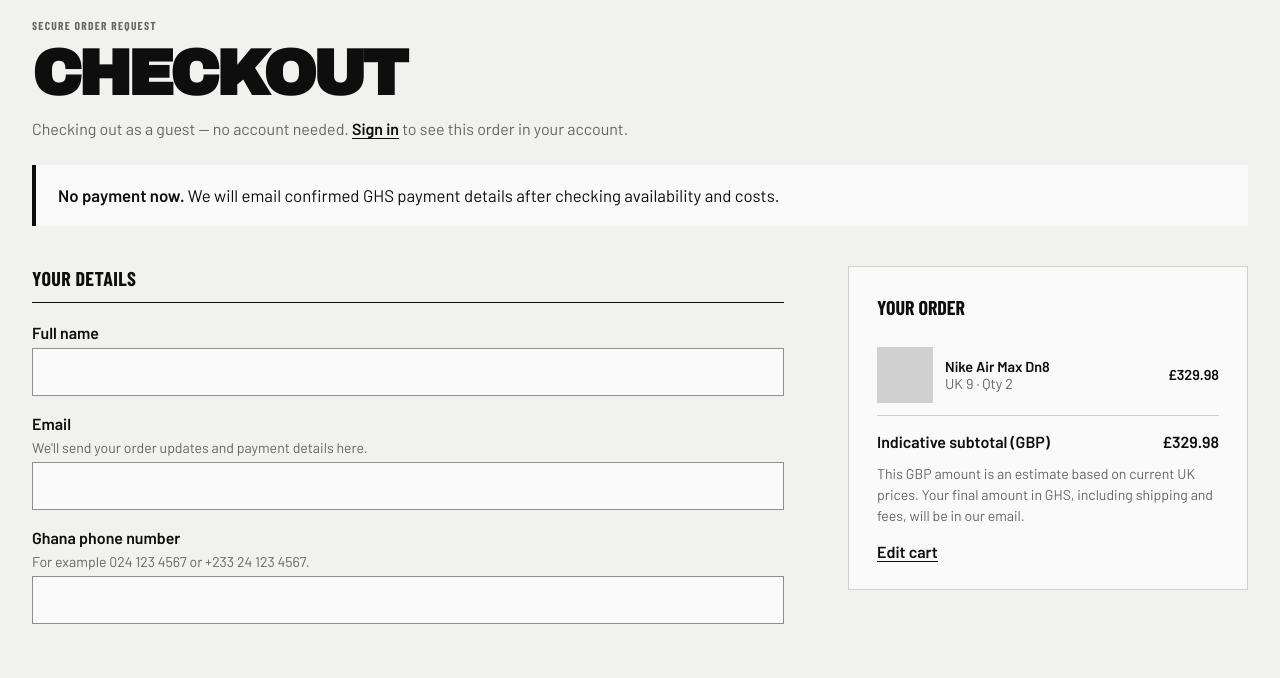
unavailable items are flagged and the cart is kept
Type "Ama Mensah" into the field labelled "Full name" at coordinates (408, 372), box x1=32 y1=348 x2=784 y2=396
Type "ama@example.test" into the field labelled "Email" at coordinates (408, 486), box x1=32 y1=462 x2=784 y2=510
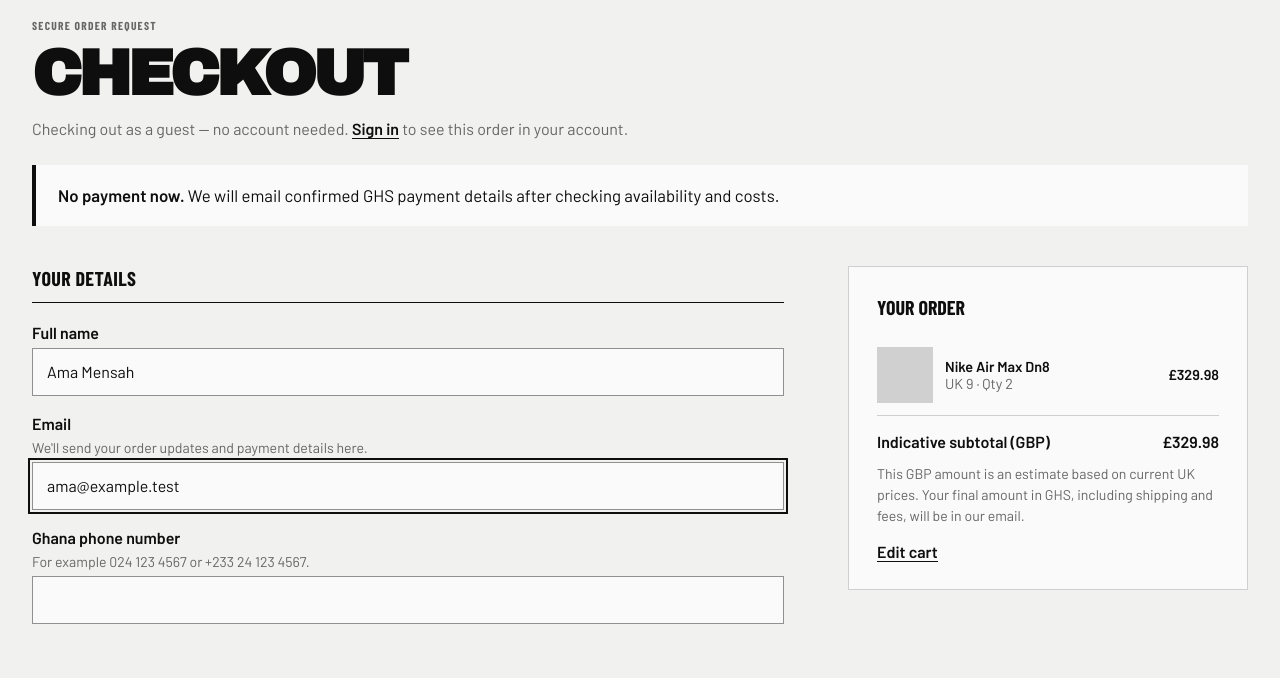
Type "024 123 4567" into the field labelled "Ghana phone number" at coordinates (408, 600), box x1=32 y1=576 x2=784 y2=624
(page scrolled)
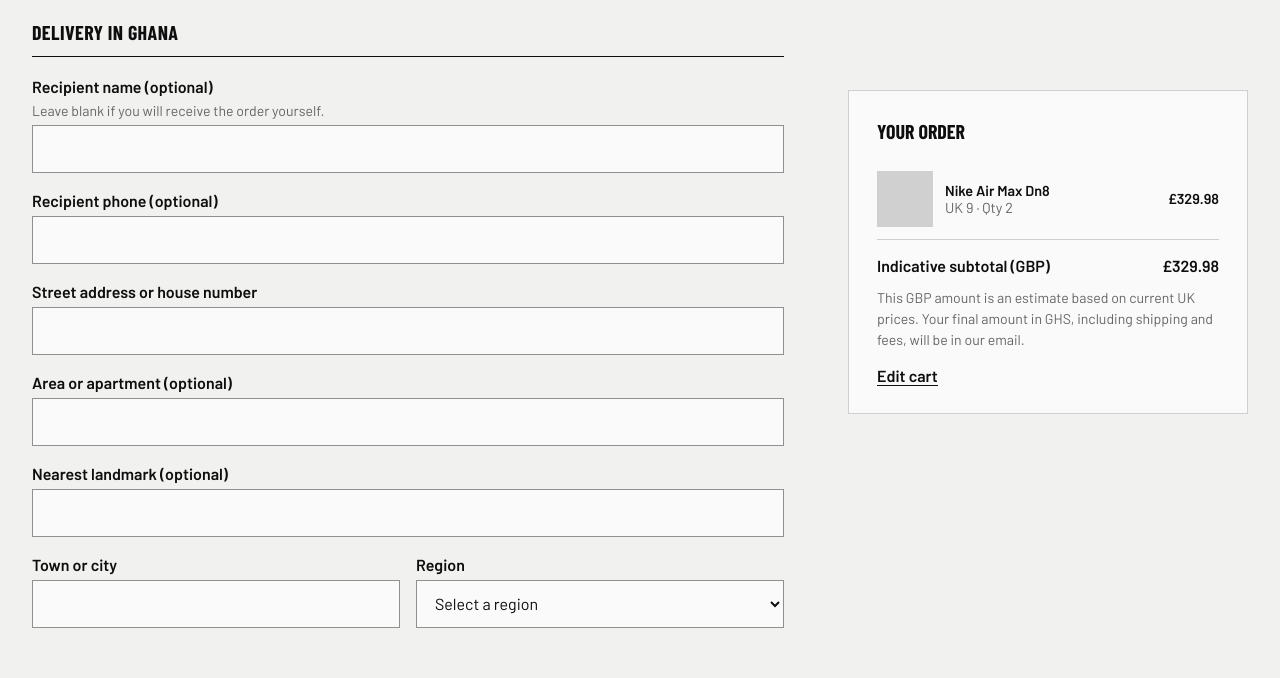
Type "12 Ring Road East" into the field labelled "Street address or house number" at coordinates (408, 331), box x1=32 y1=307 x2=784 y2=355
Type "Accra" into the field labelled "Town or city" at coordinates (216, 604), box x1=32 y1=580 x2=400 y2=628
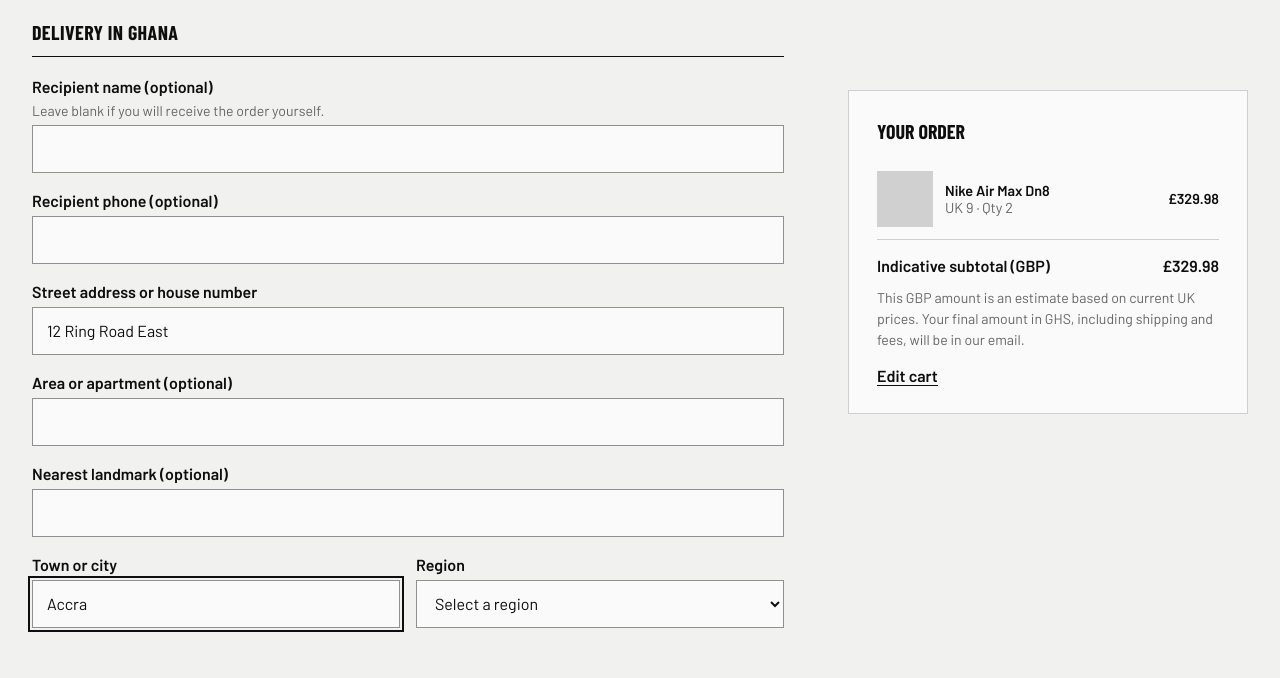
Select "Greater Accra" in the dropdown labelled "Region" at coordinates (600, 604), box x1=416 y1=580 x2=784 y2=628
(page scrolled)
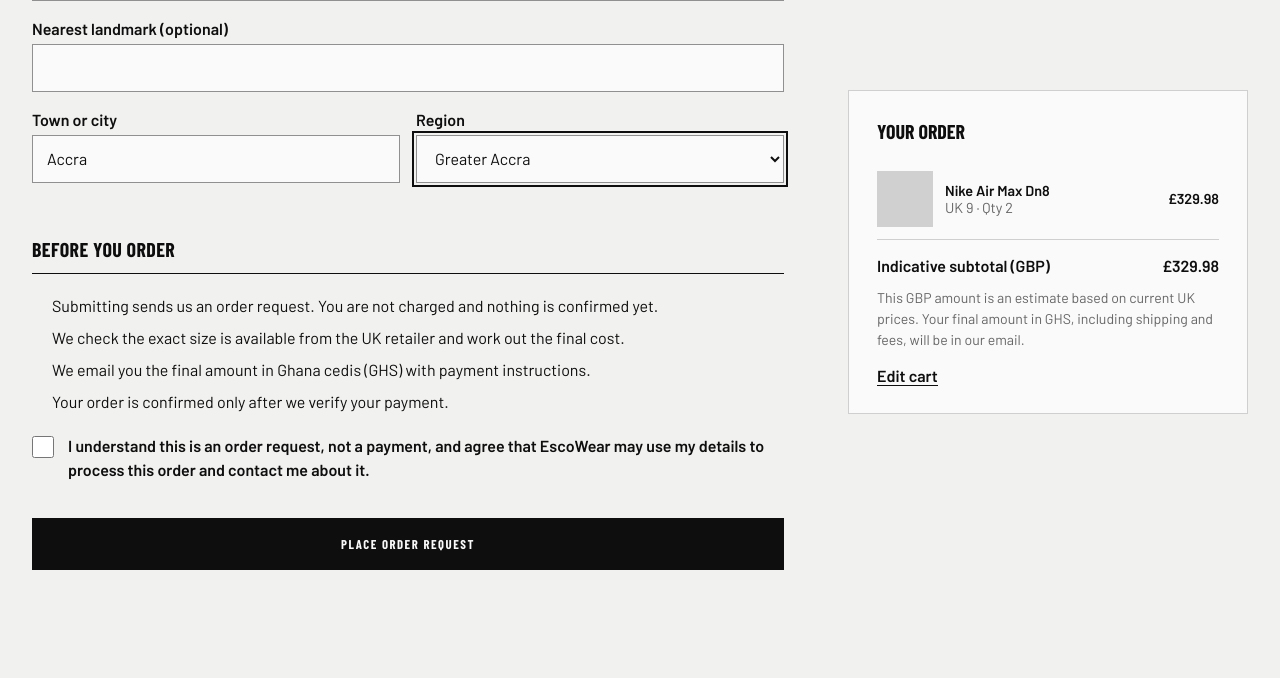
Click the checkbox labelled "I understand this is an order request" at coordinates (43, 447), box x1=32 y1=436 x2=54 y2=458
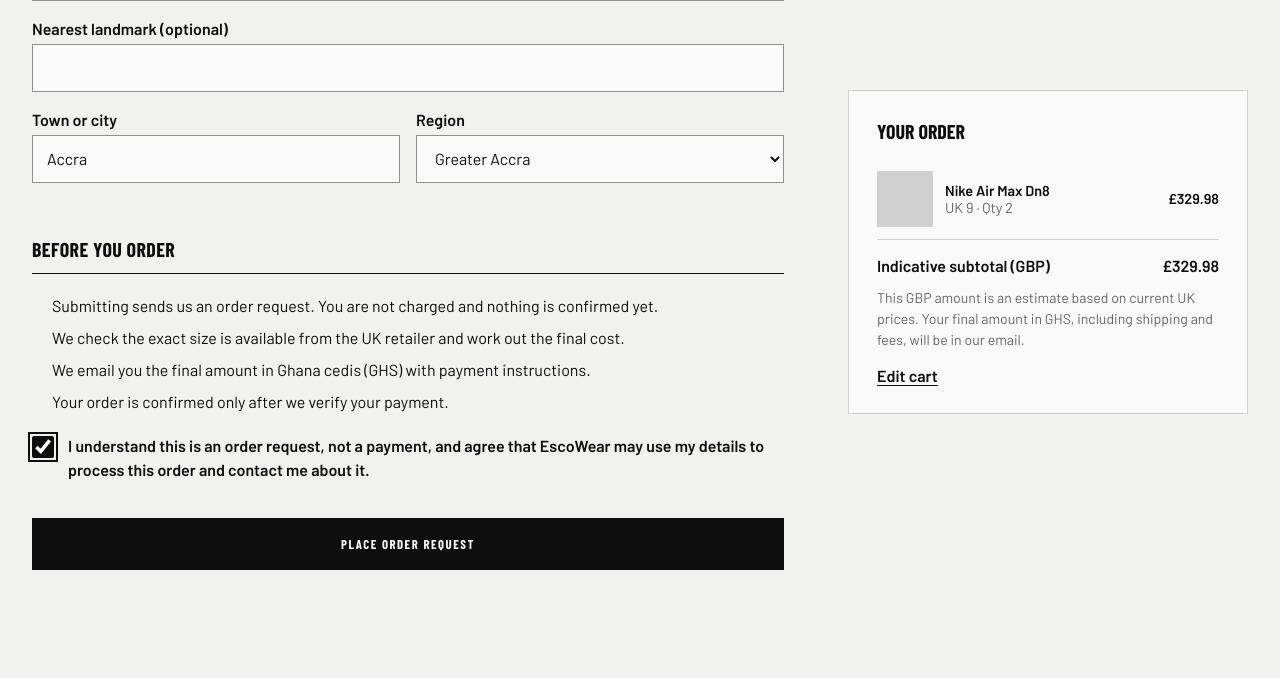
Click the button "Place order request" at coordinates (408, 544), box x1=32 y1=518 x2=784 y2=570
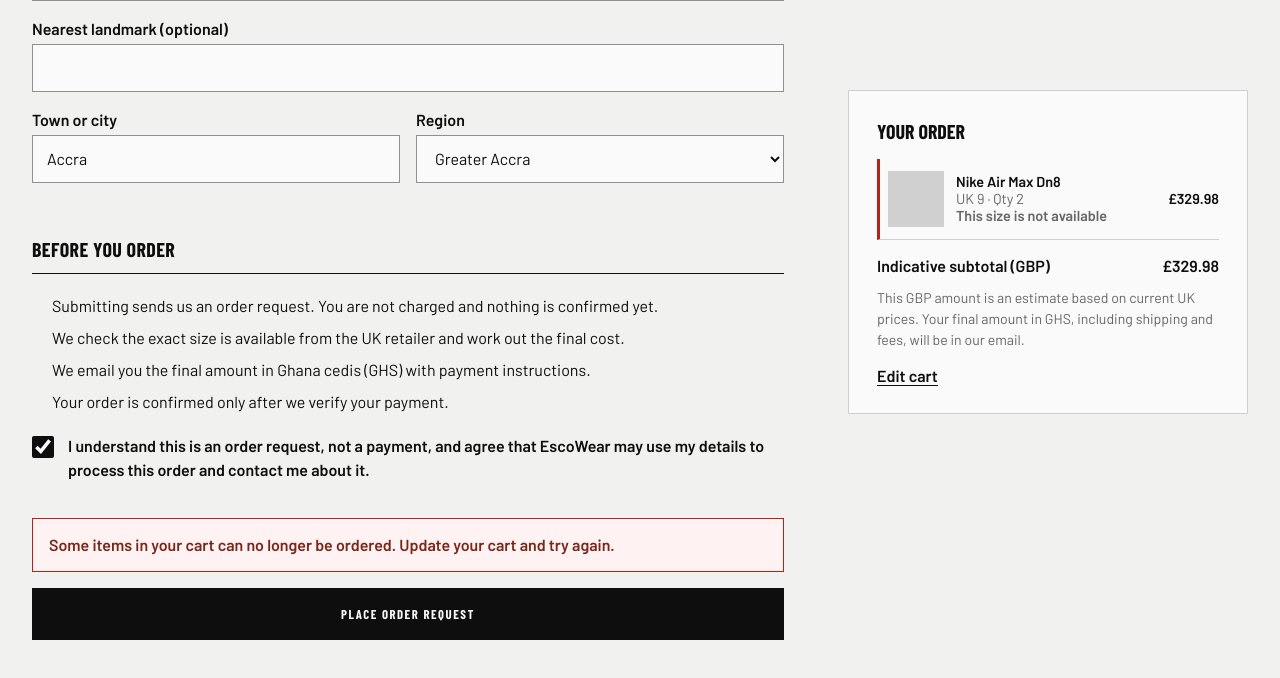
Now the message shows "can no longer be ordered", box x1=49 y1=535 x2=614 y2=554
Now the text "This size is not available" is shown, box x1=956 y1=208 x2=1107 y2=224
